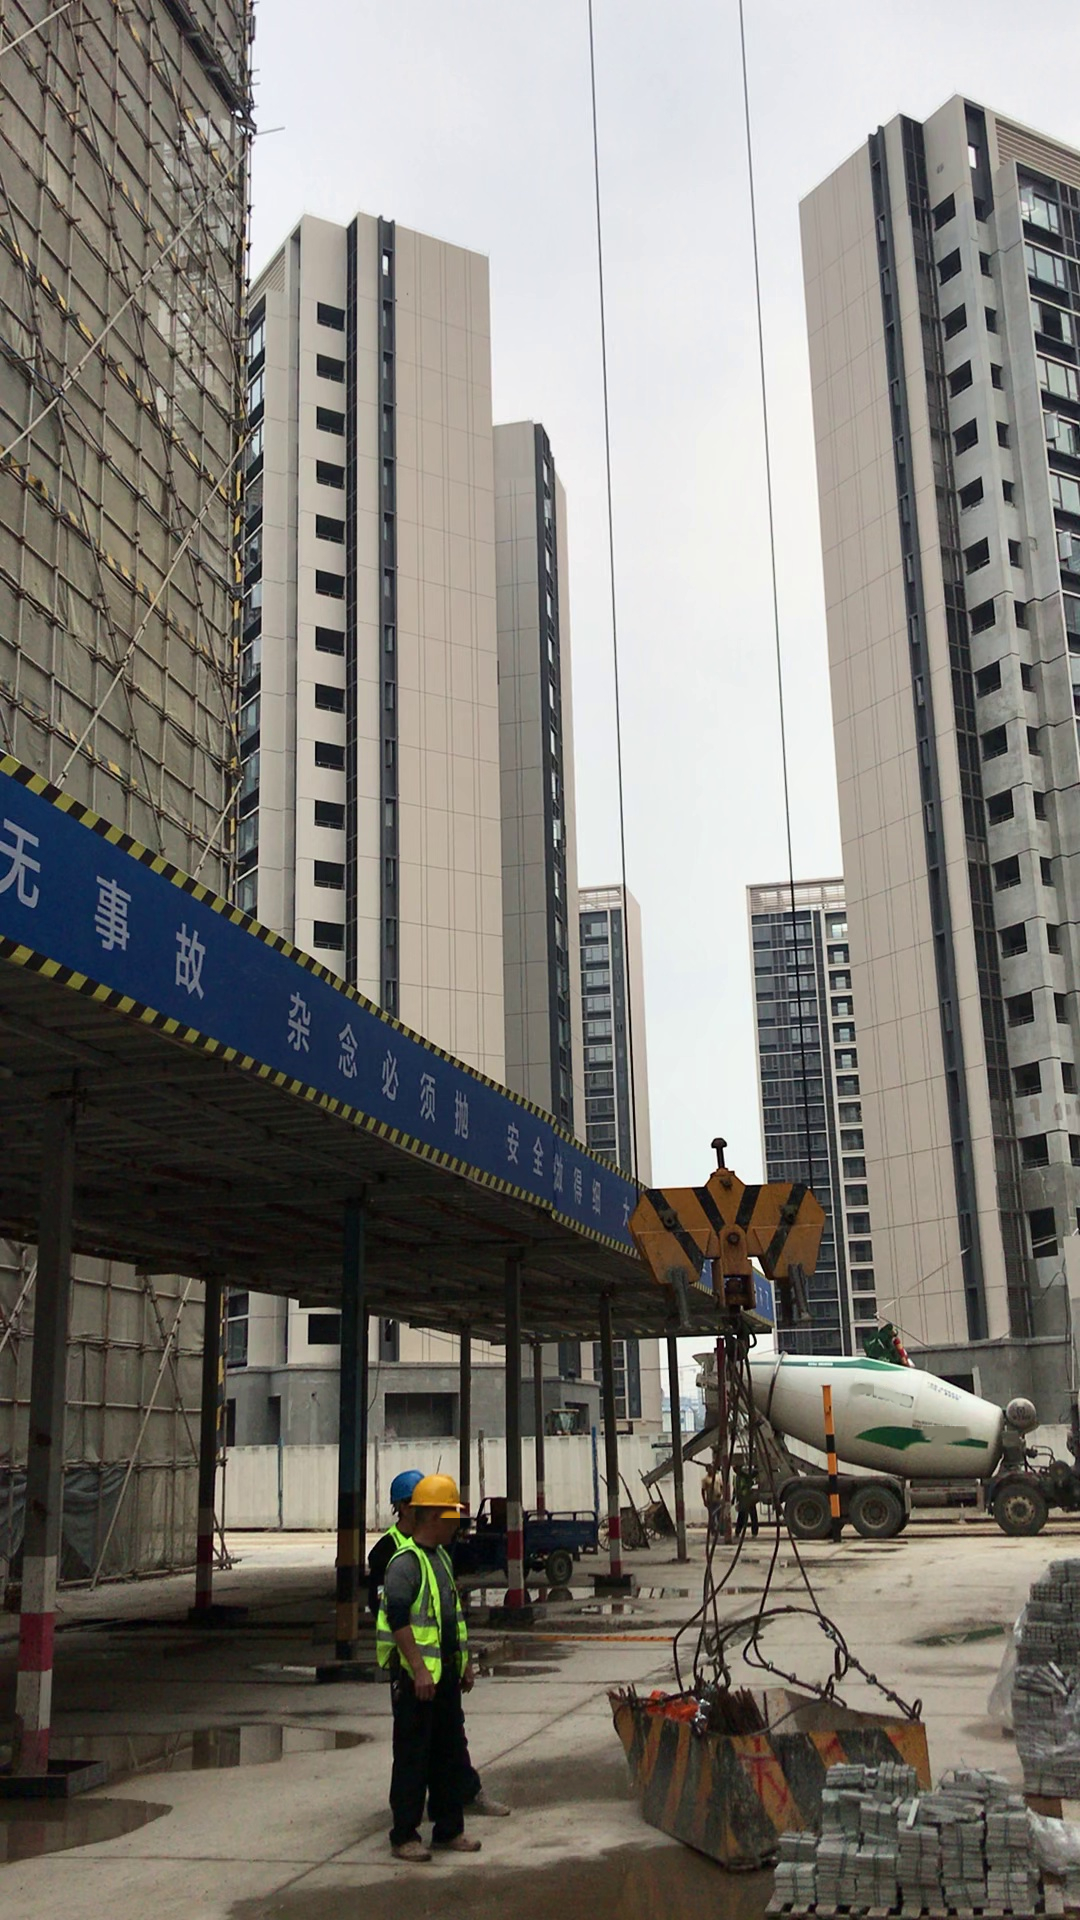handcart: (602, 1463, 681, 1548)
helmet: (409, 1468, 473, 1512), (381, 1462, 423, 1500)
hook: (610, 1125, 846, 1298)
person: (393, 1477, 484, 1872), (356, 1465, 417, 1626)
slogan: (1, 750, 631, 1251)
vest: (389, 1538, 482, 1693)
